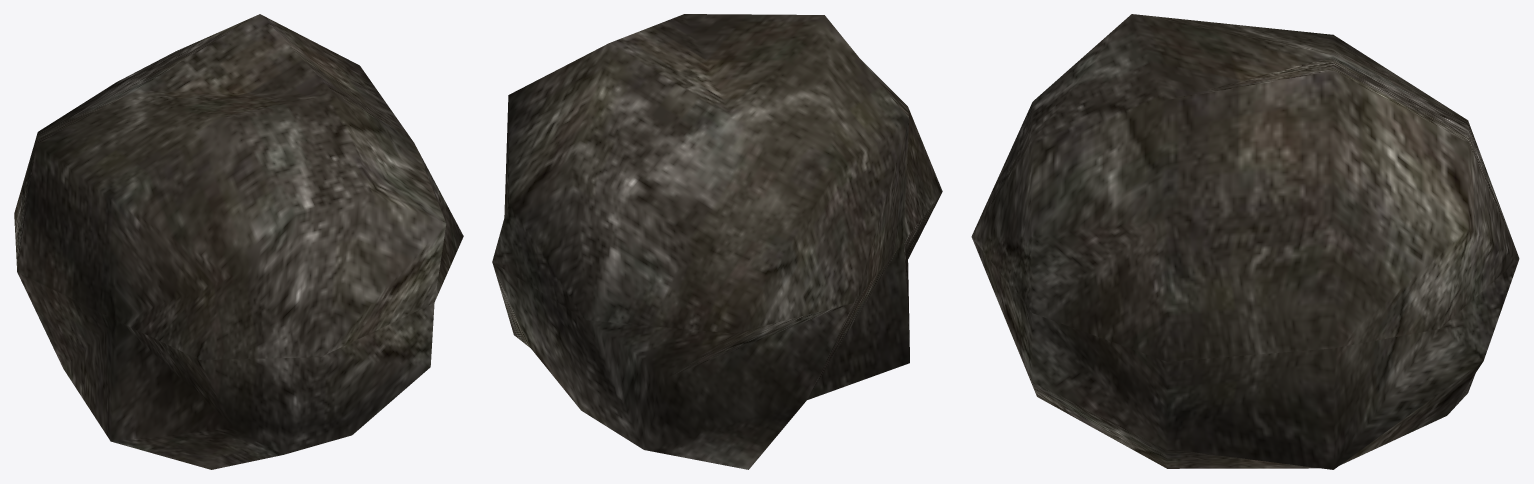
Rendered from Flybigstone2.glb.
The picture shows the model from 3 angles, left to right: view 1: azimuth 30°, elevation 25°; view 2: azimuth 150°, elevation 25°; view 3: azimuth 270°, elevation 25°; orthographic projection. The views are drawn at different scales.
Parts seen in each view (by area): view 1: model_Flybigstone2; view 2: model_Flybigstone2; view 3: model_Flybigstone2.
Part boxes in pixels (x1,y1,x2,y2): model_Flybigstone2: [14, 14, 463, 469]; model_Flybigstone2: [492, 14, 942, 469]; model_Flybigstone2: [971, 14, 1519, 469].
Bounding box in the file's own units: 1.14 × 1.15 × 1.32.
1 material, 1 textured.
